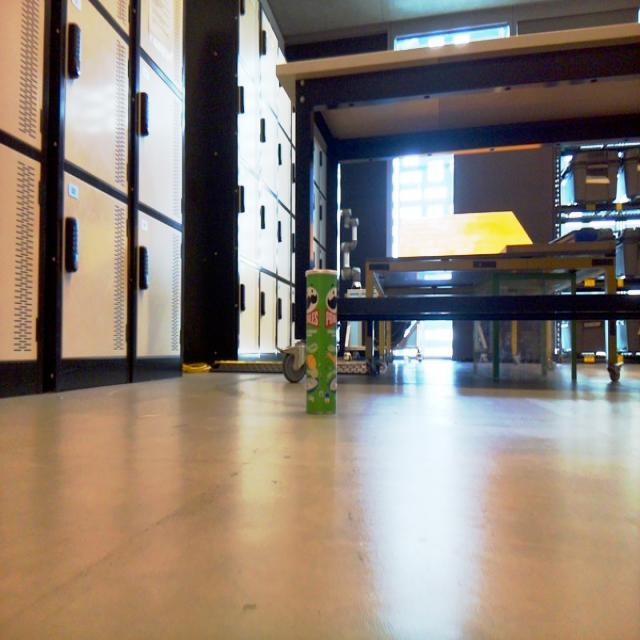greenpringles: (294, 255, 354, 436)
